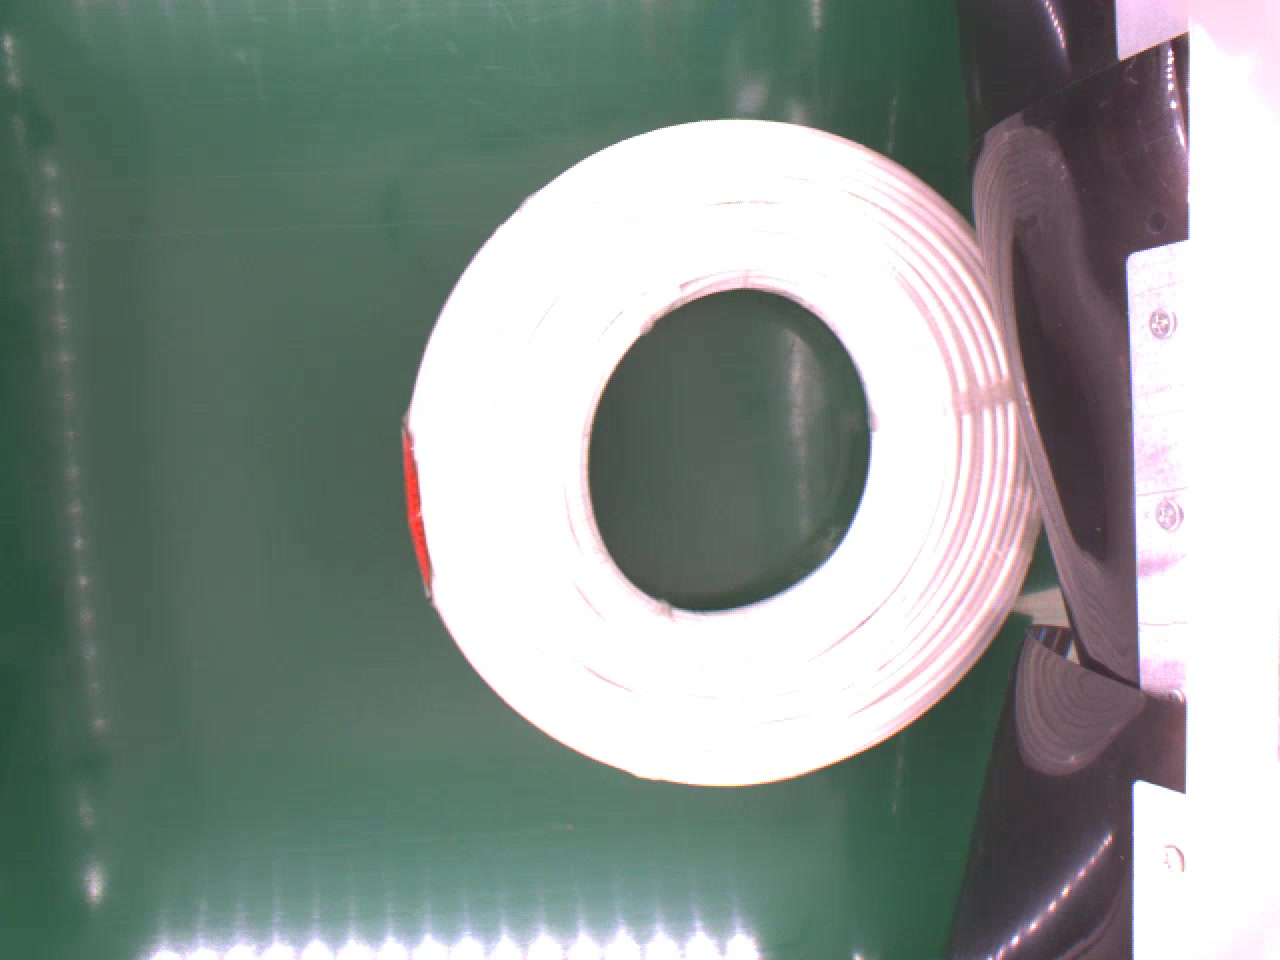white: (403, 116, 1043, 791)
